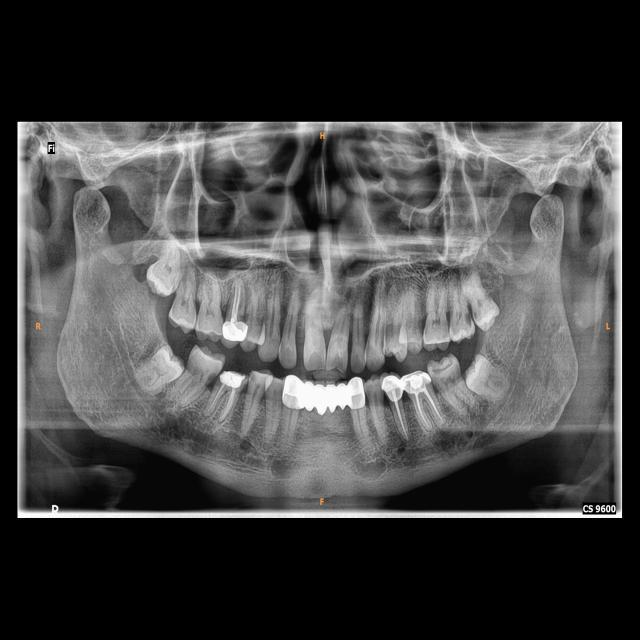dentin-curugu: (462, 312, 472, 327)
dolgu: (217, 366, 246, 389), (225, 321, 248, 344)
kanal-tedavisi: (410, 395, 449, 430), (214, 381, 235, 422), (392, 401, 410, 444), (229, 280, 243, 323)
kaplama: (281, 373, 305, 416), (347, 379, 369, 414)
